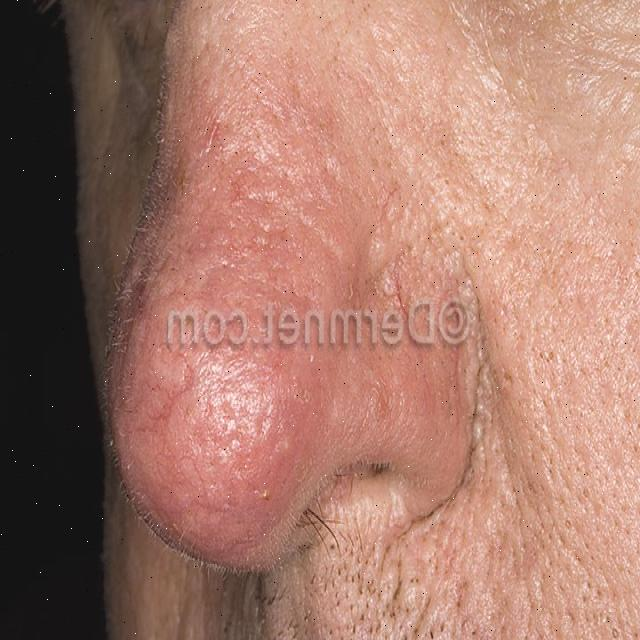images: (44, 0, 639, 639)
